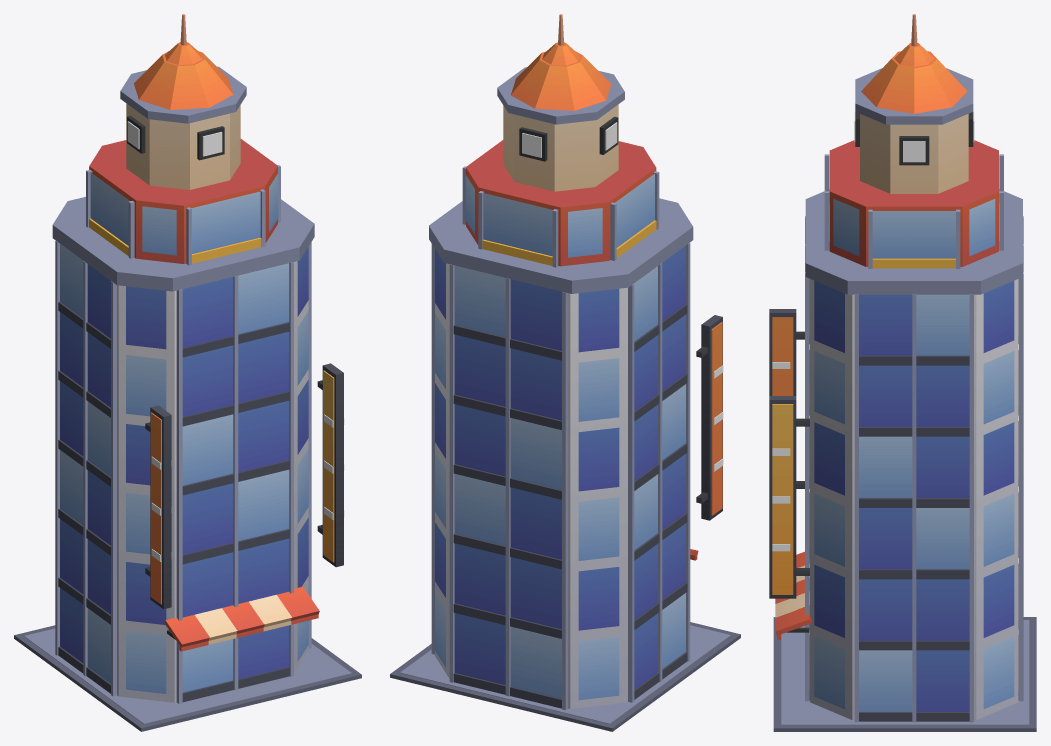
The model's file is com_flagship_store_1x1.glb.
3 views of the same model, side by side, from view 1: azimuth 30°, elevation 25°; view 2: azimuth 150°, elevation 25°; view 3: azimuth 270°, elevation 25° (orthographic). The views are drawn at different scales.
Parts seen in each view (by area): view 1: com_flagship_store_1x1; view 2: com_flagship_store_1x1; view 3: com_flagship_store_1x1.
Boxes of the visible parts, x1,y1,x2,y2 form: com_flagship_store_1x1: [14, 14, 361, 731]; com_flagship_store_1x1: [390, 14, 740, 731]; com_flagship_store_1x1: [769, 14, 1036, 731].
Bounding box in the file's own units: 1.74 × 4.83 × 1.77.
1 material, 1 textured.
